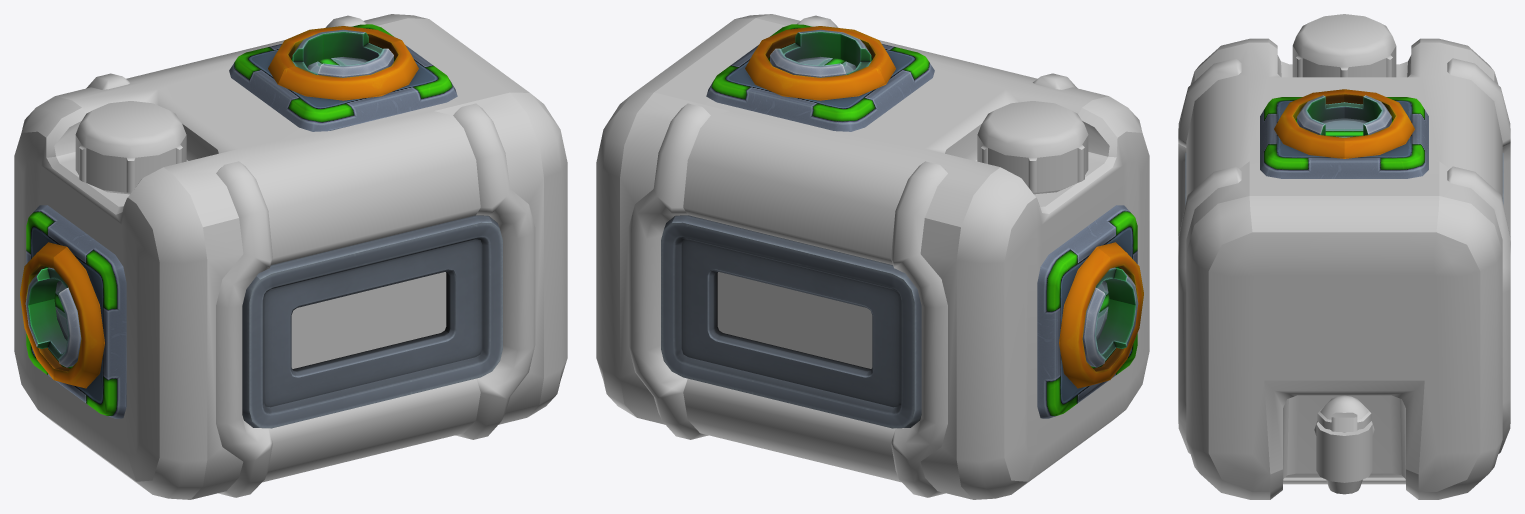
Rendered from obj_containers_water.fbx.
The picture shows the model from 3 angles, left to right: view 1: azimuth 30°, elevation 25°; view 2: azimuth 150°, elevation 25°; view 3: azimuth 270°, elevation 25°; orthographic projection. The views are drawn at different scales.
Visible parts, largest first — view 1: obj_containers_water; view 2: obj_containers_water; view 3: obj_containers_water.
Boxes of the visible parts, box(x1,y1,x2,y2) form: obj_containers_water: box(14, 14, 567, 499); obj_containers_water: box(596, 14, 1149, 499); obj_containers_water: box(1178, 14, 1510, 499).
Size of the model in its own units: 4.71 by 3.32 by 2.94.
